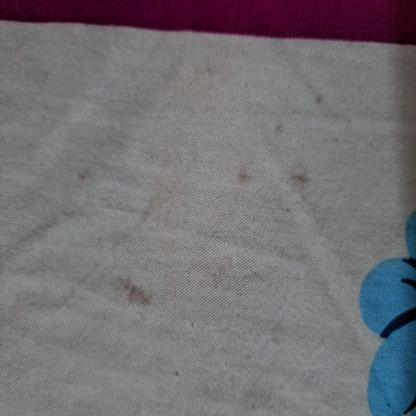spot: (114, 270, 153, 315), (286, 167, 310, 190), (236, 168, 256, 191), (271, 121, 291, 142), (314, 88, 324, 112)
